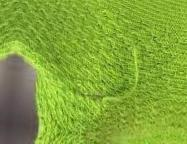snag: (98, 43, 143, 107)
